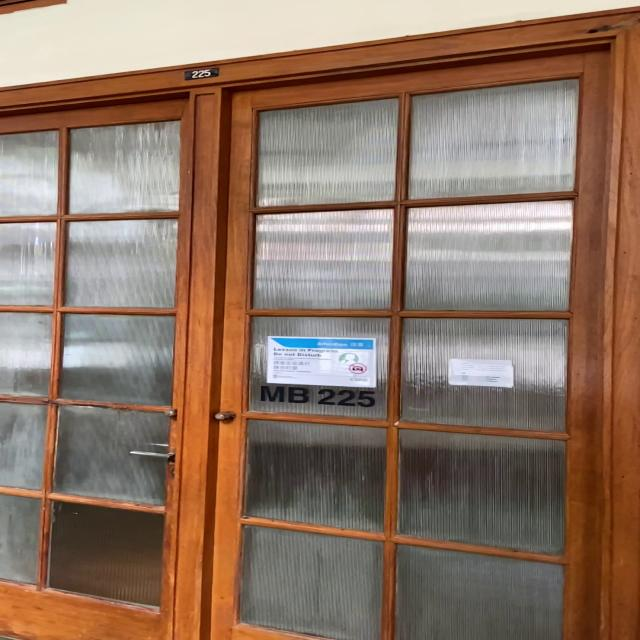room225: (188, 64, 223, 81)
room225Window: (258, 382, 375, 410)
